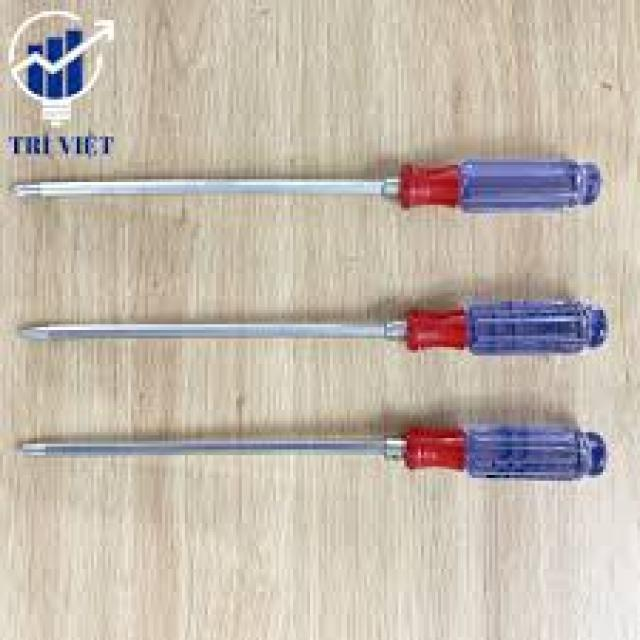screwdriver: (18, 298, 613, 366), (6, 156, 612, 216), (11, 421, 606, 478)
